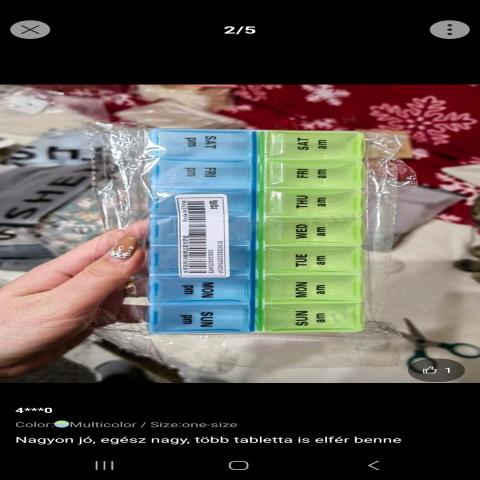Pill-box: (102, 98, 423, 354)
